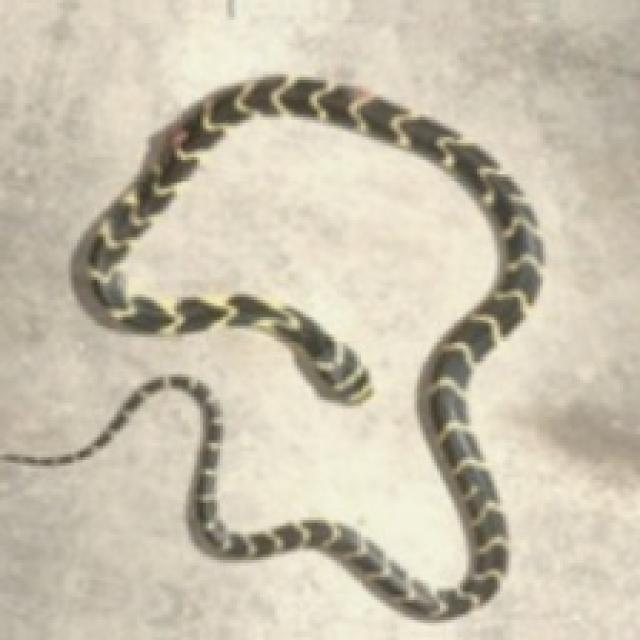king cobra: (0, 74, 540, 617)
